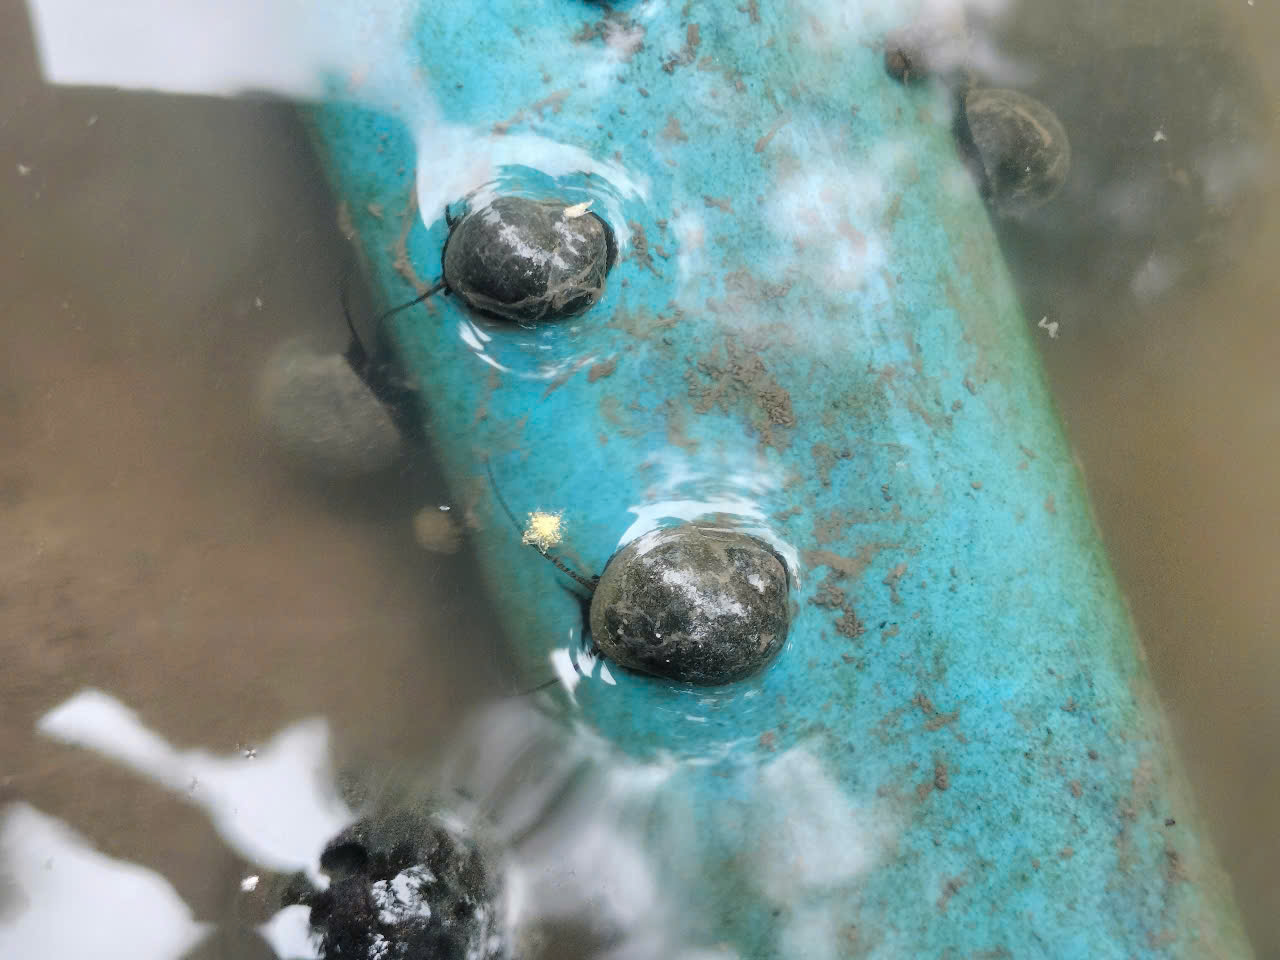oc_buou_vang: (517, 447, 794, 730), (410, 161, 681, 356), (230, 269, 437, 515)
